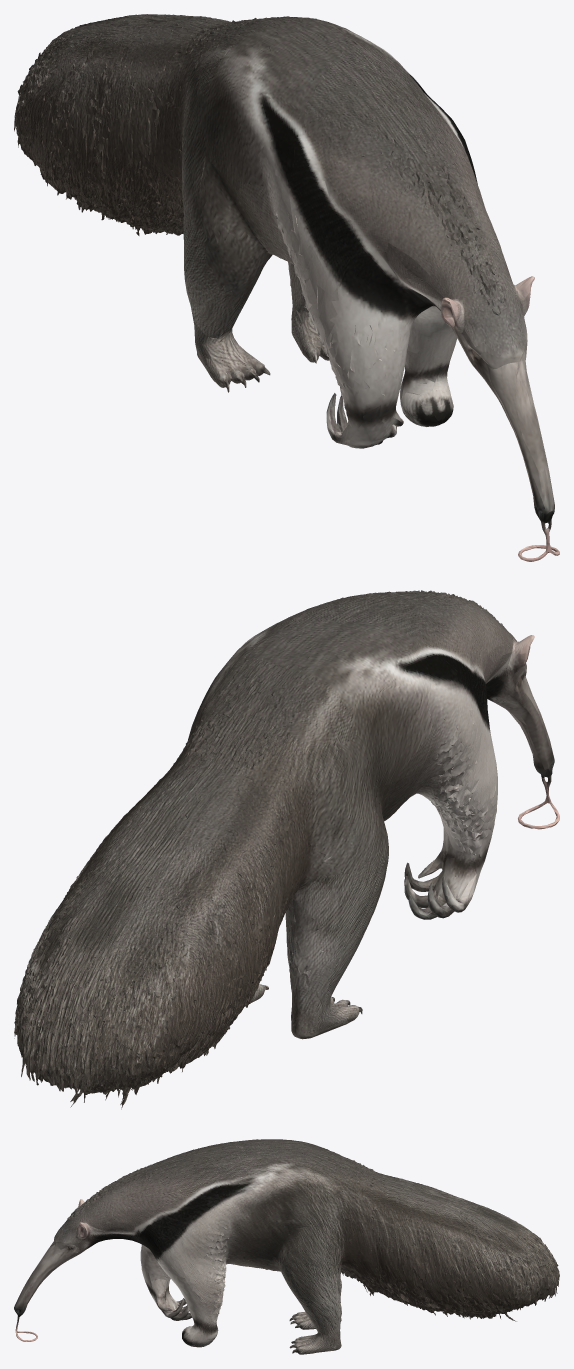
Rendered from anteater.glb.
The picture shows the model from 3 angles, top to bottom: view 1: azimuth 30°, elevation 25°; view 2: azimuth 150°, elevation 25°; view 3: azimuth 270°, elevation 25°; orthographic projection. The views are drawn at different scales.
Parts seen in each view (by area): view 1: output_unwrapped; view 2: output_unwrapped; view 3: output_unwrapped.
Boxes of the visible parts, x1,y1,x2,y2 form: output_unwrapped: [14, 14, 559, 561]; output_unwrapped: [14, 590, 559, 1109]; output_unwrapped: [14, 1139, 559, 1354].
Bounding box in the file's own units: 0.3949 × 0.7198 × 1.87.
Materials: 1 (1 with a texture image).
